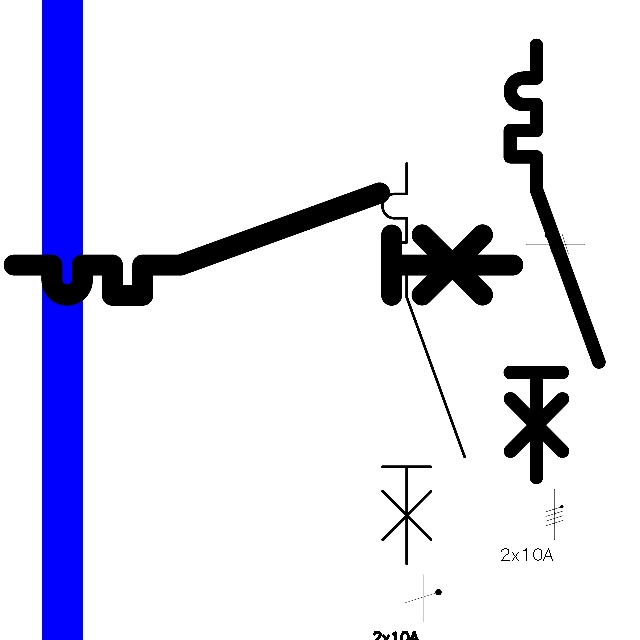interruptor_termomagnetico: (1, 180, 526, 308), (499, 34, 610, 488), (372, 153, 475, 575)
